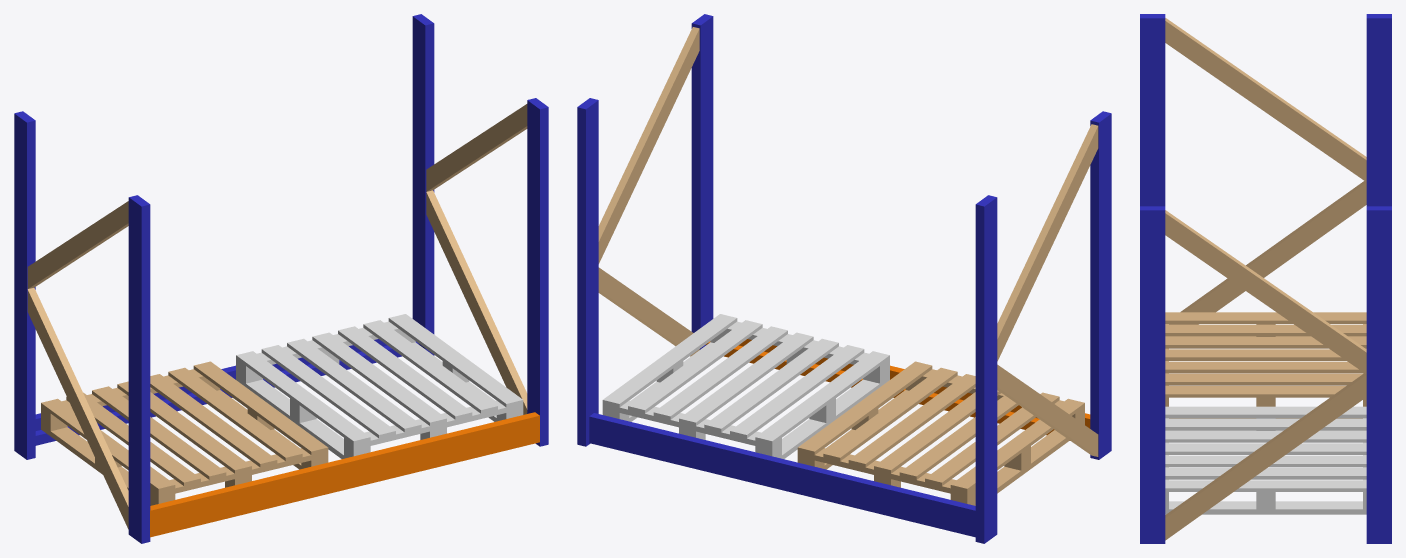
The model's file is Longarina_Junto_2pallets.glb.
3 renders of one model, left to right at view 1: azimuth 30°, elevation 25°; view 2: azimuth 150°, elevation 25°; view 3: azimuth 270°, elevation 25°, orthographic.
Parts seen in each view (by area): view 1: Cube.005; view 2: Cube.005; view 3: Cube.005.
Part boxes in pixels (bbox=[...]): Cube.005: bbox=[14, 14, 548, 543]; Cube.005: bbox=[577, 14, 1111, 543]; Cube.005: bbox=[1140, 14, 1391, 543].
Size of the model in its own units: 2.4 by 1.9 by 1.3.
